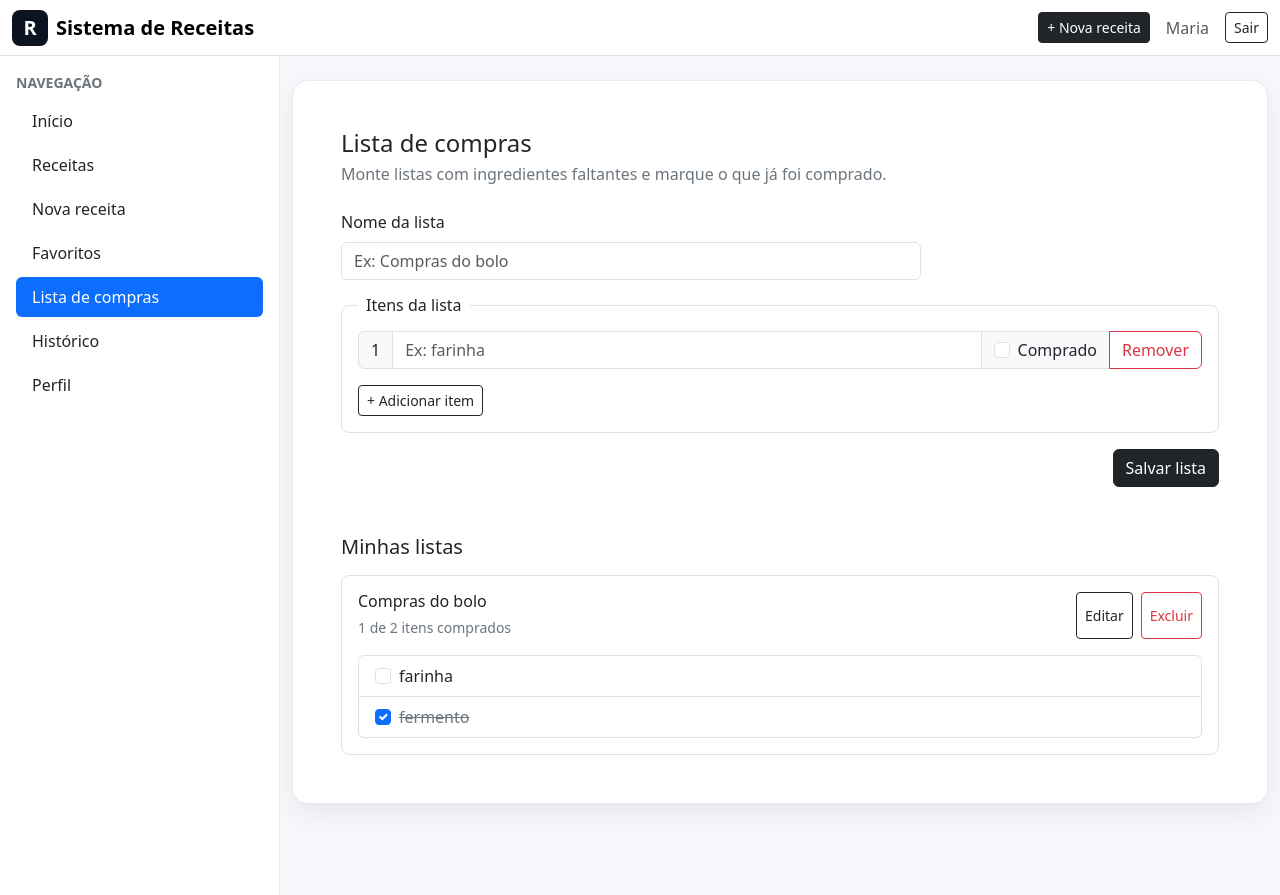
Scenario: shopping list form › accepts a minimally valid shopping list
The width and height of the screenshot is (1280, 895).
Type "Compras da semana" into the field labelled "Nome da lista".
click(631, 261); type("Compras da semana")  # box x1=341 y1=242 x2=921 y2=280
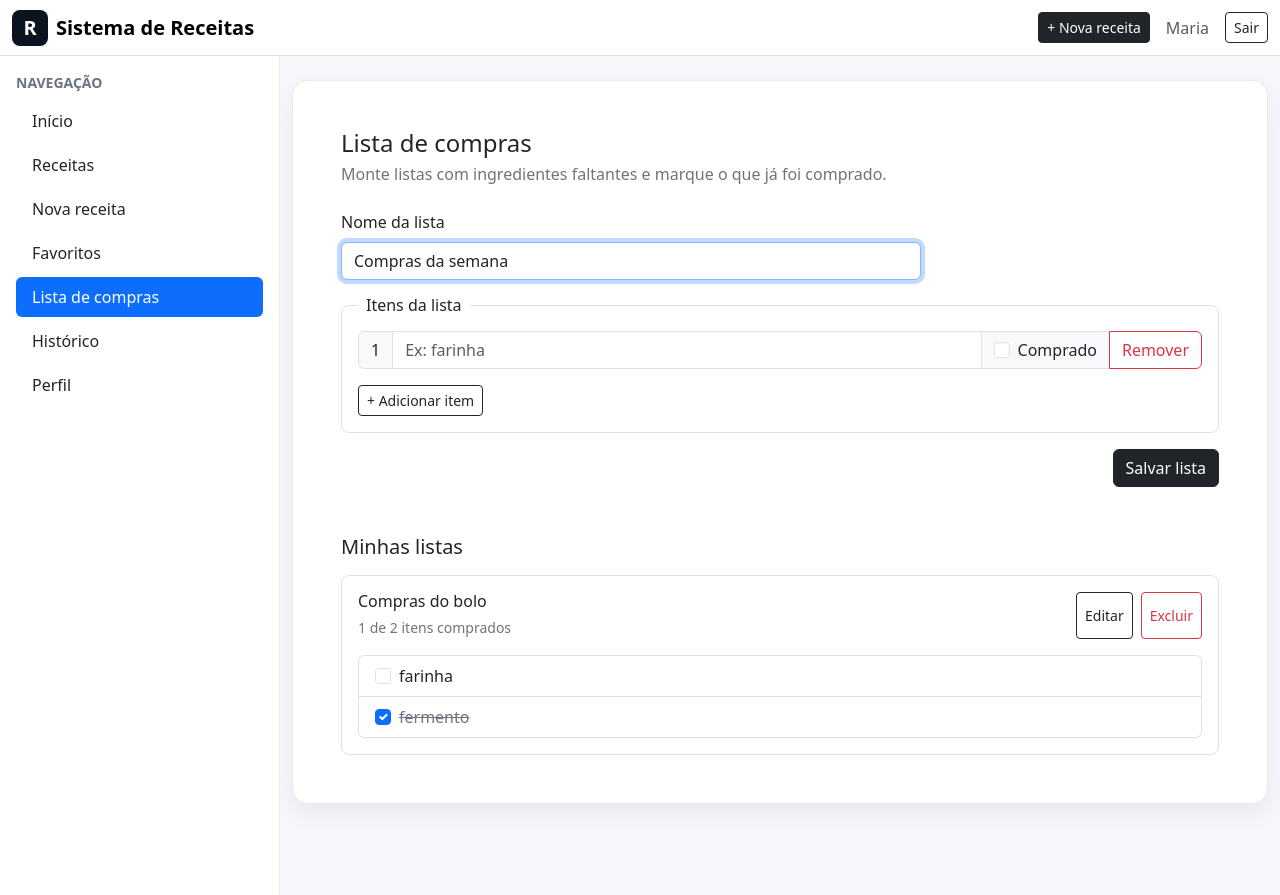
Type "leite" into the field named "item de compra 1".
click(687, 350); type("leite")  # box x1=392 y1=331 x2=982 y2=369
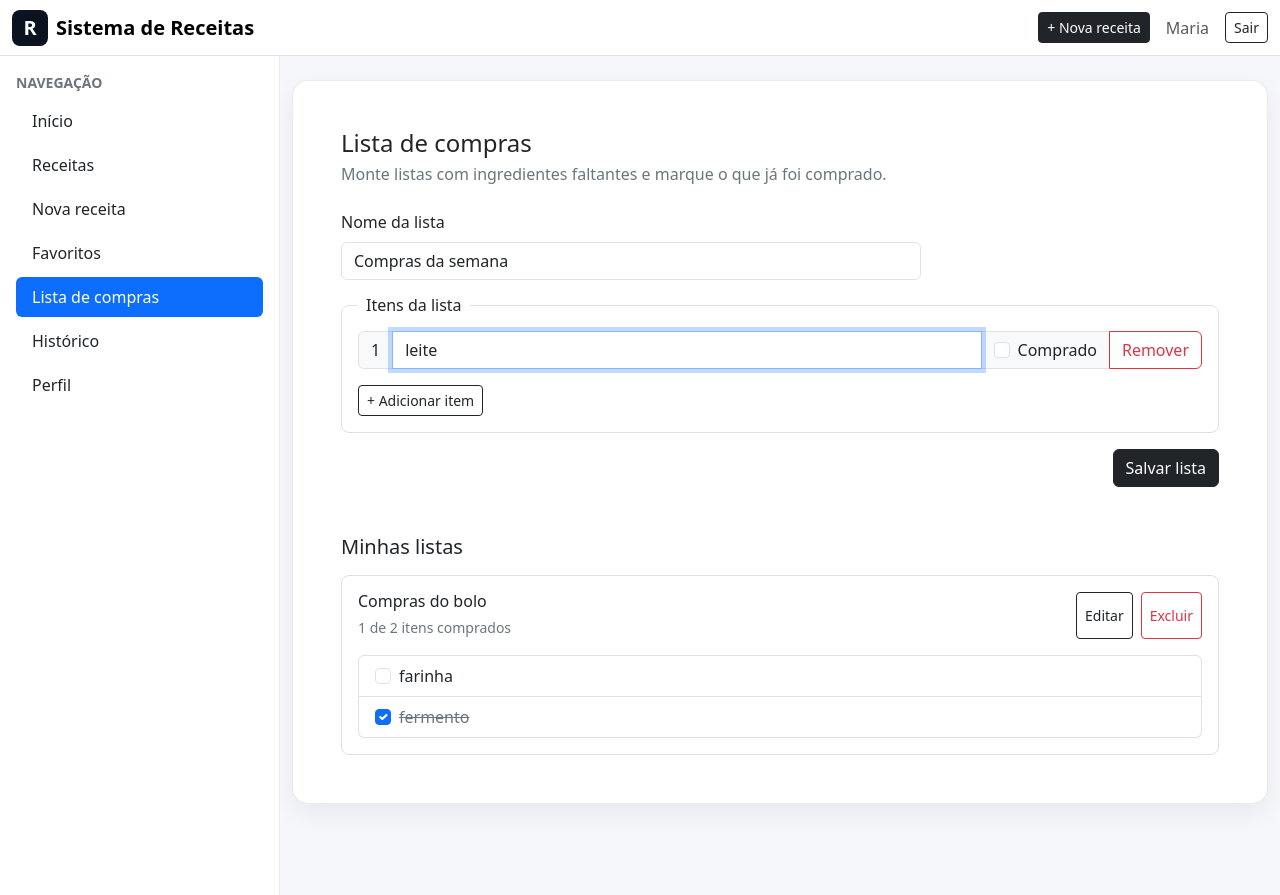
Click the button "Salvar lista".
click(1166, 468)  # box x1=1113 y1=449 x2=1219 y2=487
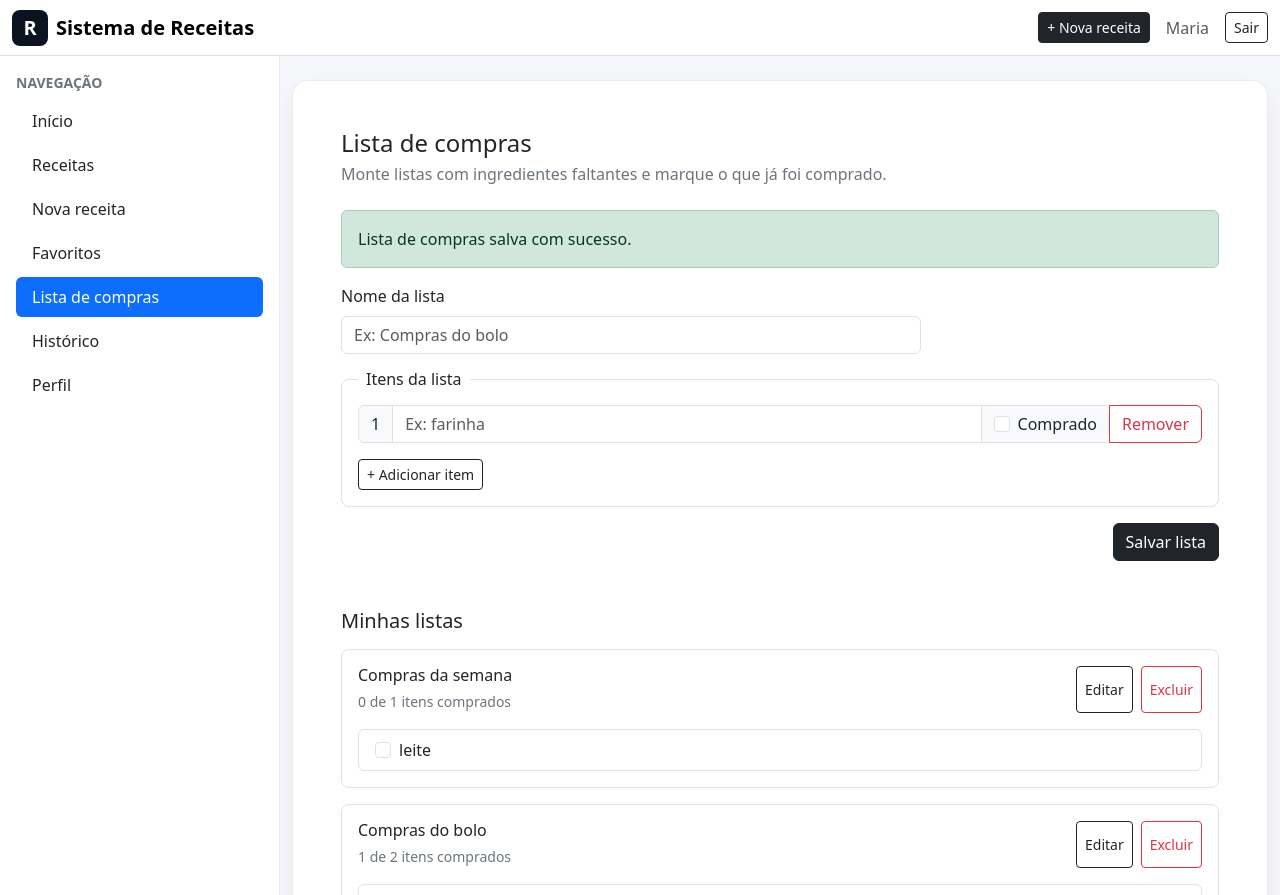
Result: the message shows "Lista de compras salva" at x1=358 y1=228 x2=631 y2=250
Result: the heading "Compras da semana" is shown at x1=358 y1=666 x2=512 y2=685
